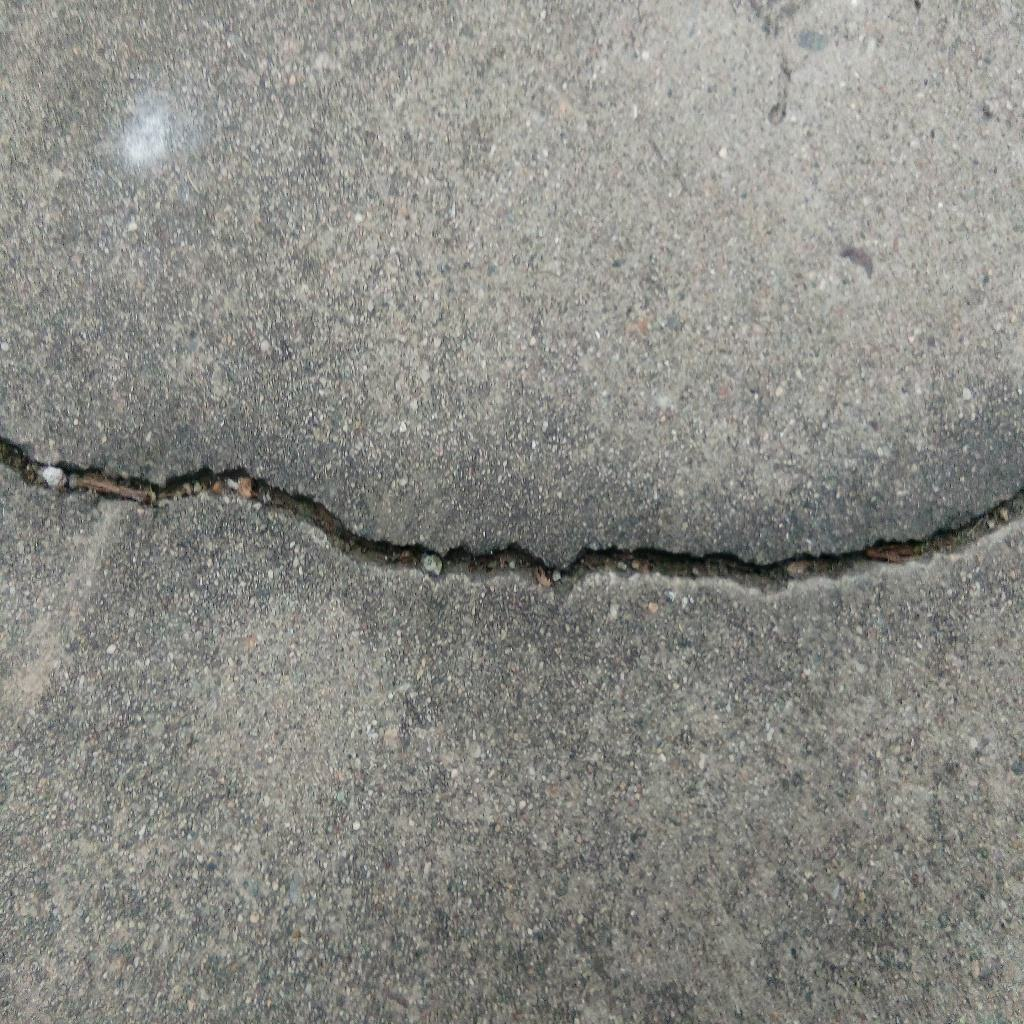Crack: (1, 434, 1024, 601)
